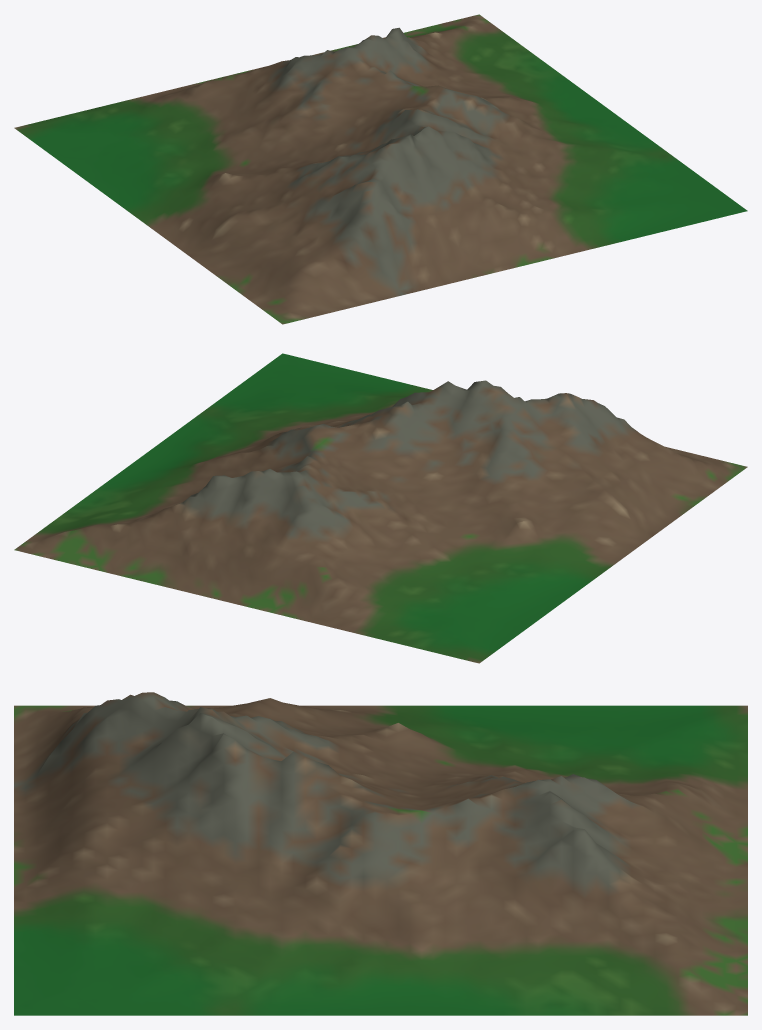
The model's file is TEM_BG_Mountain_02.fbx.
The picture shows the model from 3 angles, top to bottom: view 1: azimuth 30°, elevation 25°; view 2: azimuth 150°, elevation 25°; view 3: azimuth 270°, elevation 25°; orthographic projection. The views are drawn at different scales.
Parts seen in each view (by area): view 1: TEM_BG_Mountain_02; view 2: TEM_BG_Mountain_02; view 3: TEM_BG_Mountain_02.
Boxes of the visible parts, x1,y1,x2,y2 form: TEM_BG_Mountain_02: (14,14,747,324); TEM_BG_Mountain_02: (14,353,747,663); TEM_BG_Mountain_02: (14,692,747,1015).
Bounding box in the file's own units: 102000 × 18675 × 102000.
